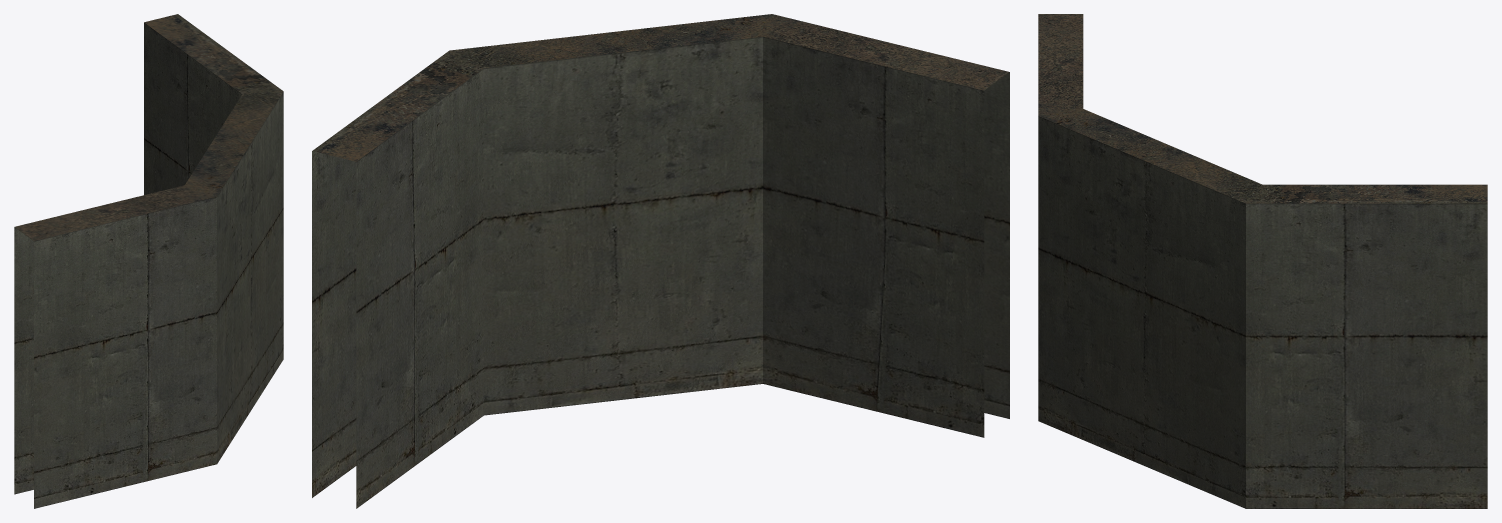
Rendered from wall_rg_1_m2a_1.dae.
3 views of the same model, side by side, from view 1: azimuth 30°, elevation 25°; view 2: azimuth 150°, elevation 25°; view 3: azimuth 270°, elevation 25° (orthographic). The views are drawn at different scales.
Parts seen in each view (by area): view 1: wall_rg_1_m2a_1; view 2: wall_rg_1_m2a_1; view 3: wall_rg_1_m2a_1.
Part boxes in pixels (box(x1,y1,x2,y2)): wall_rg_1_m2a_1: box(14, 14, 283, 508); wall_rg_1_m2a_1: box(312, 14, 1009, 508); wall_rg_1_m2a_1: box(1038, 14, 1487, 508).
Size of the model in its own units: 4 by 4 by 3.
2 materials, 2 textured.
